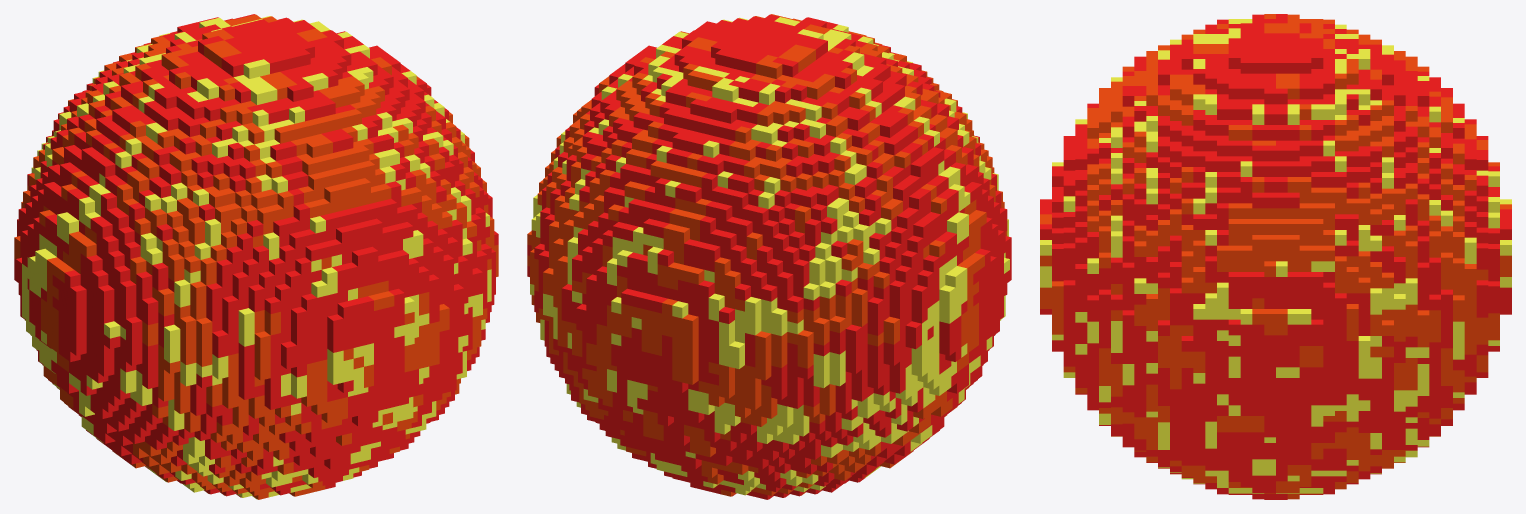
Rendered from boladefuego.obj.
3 views of the same model, side by side, from view 1: azimuth 30°, elevation 25°; view 2: azimuth 150°, elevation 25°; view 3: azimuth 270°, elevation 25° (orthographic).
Size of the model in its own units: 4 by 4 by 4.
Materials: 1 (1 with a texture image).
